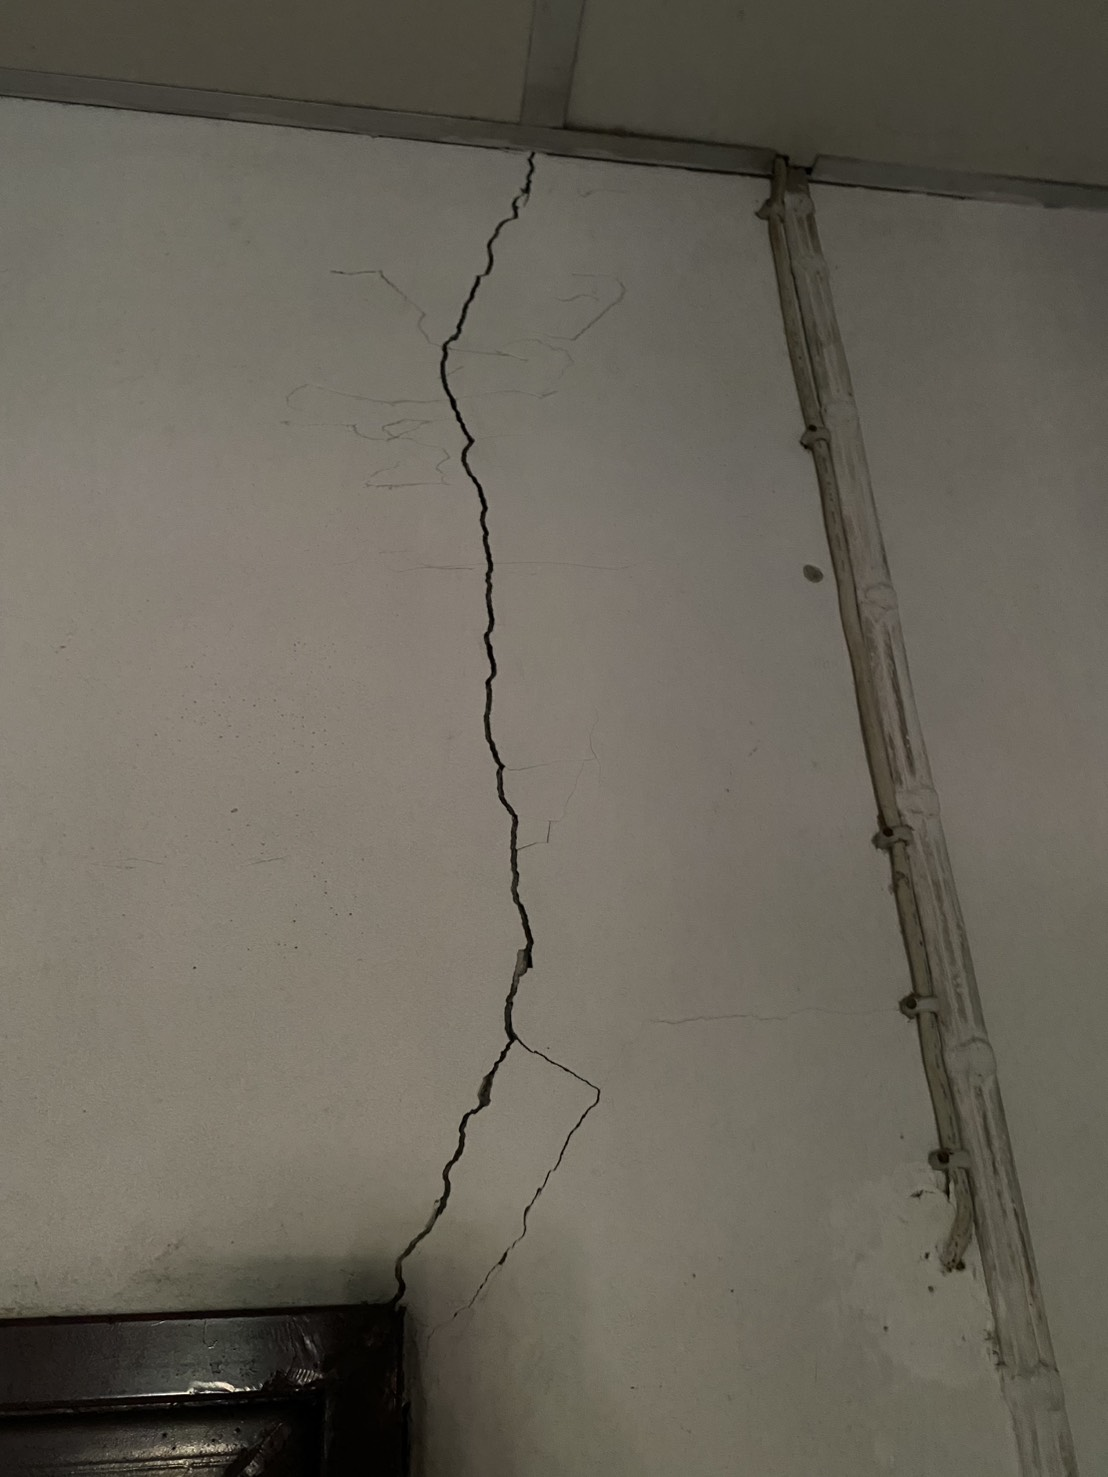Low: (300, 136, 711, 1401)
